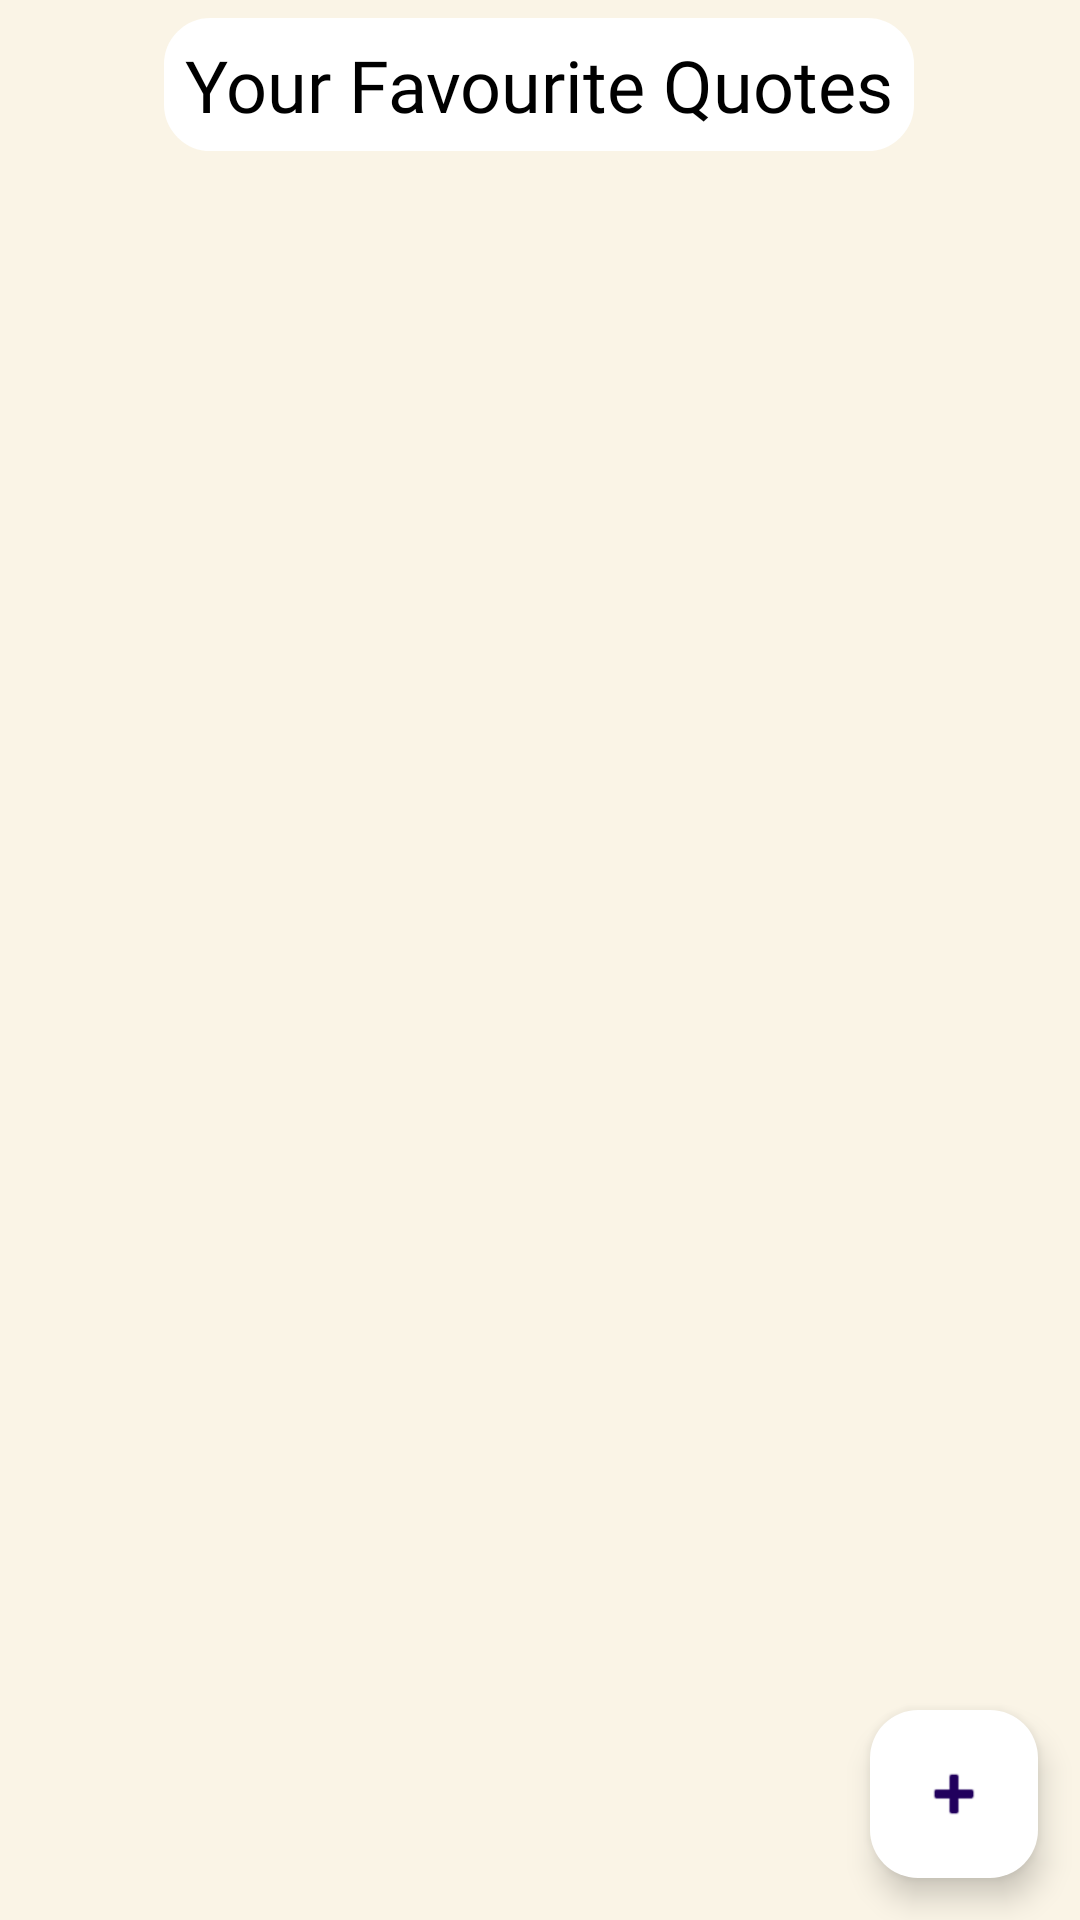

Where to tap for icons on this 1080 × 1920 app screen, as [x,y]:
add: [954,1794]
